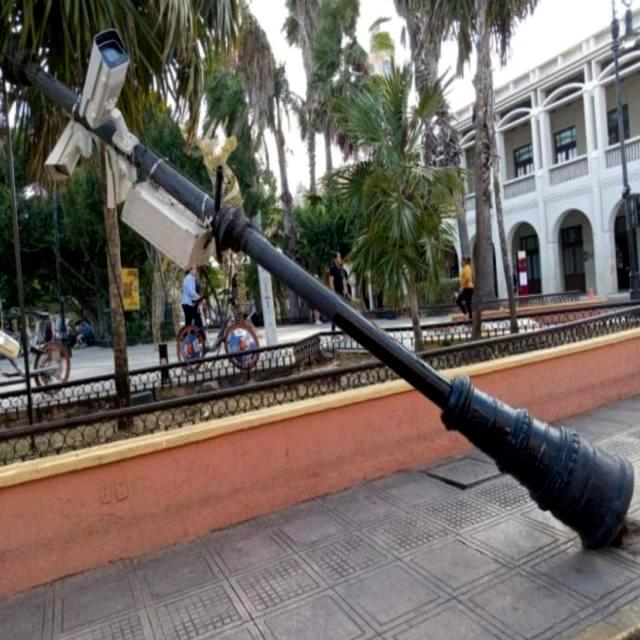Broken Pole: (1, 27, 635, 554)
